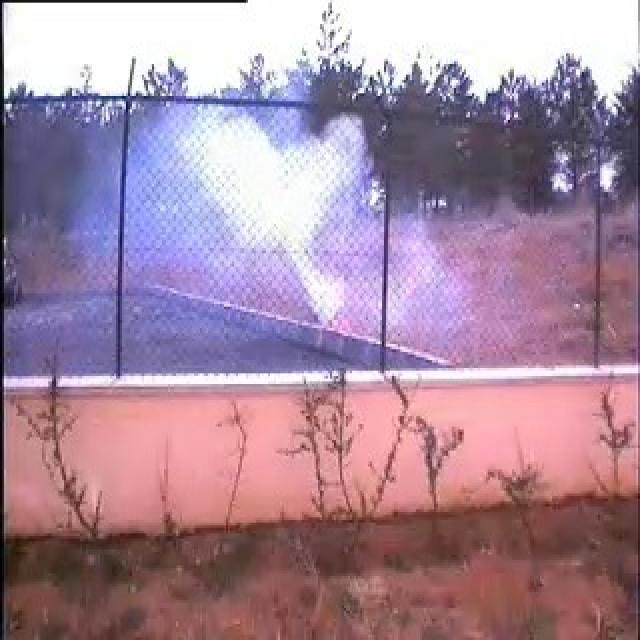Smoke: (117, 103, 445, 332)
